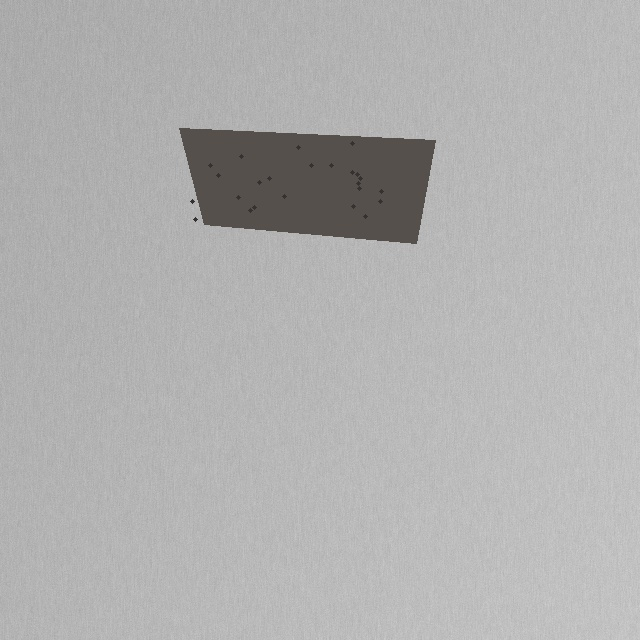waist folding: (50, 200, 590, 440)
